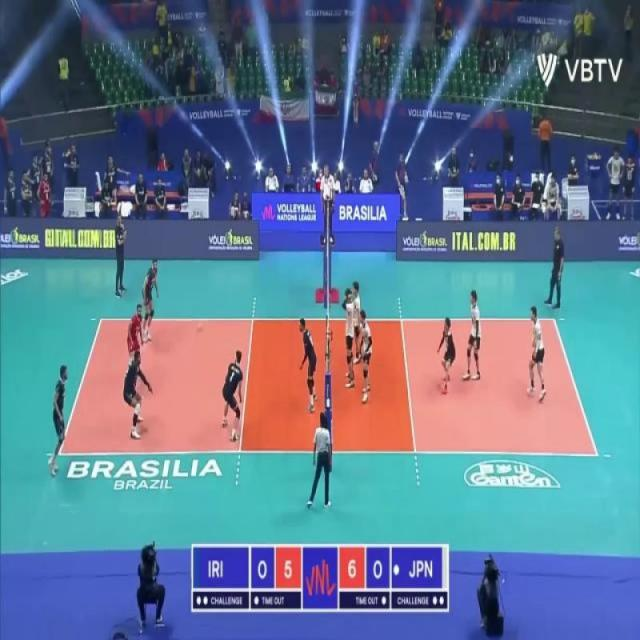volleyball: (196, 320, 204, 336), (593, 152, 600, 159), (65, 148, 71, 156), (588, 154, 594, 160)
